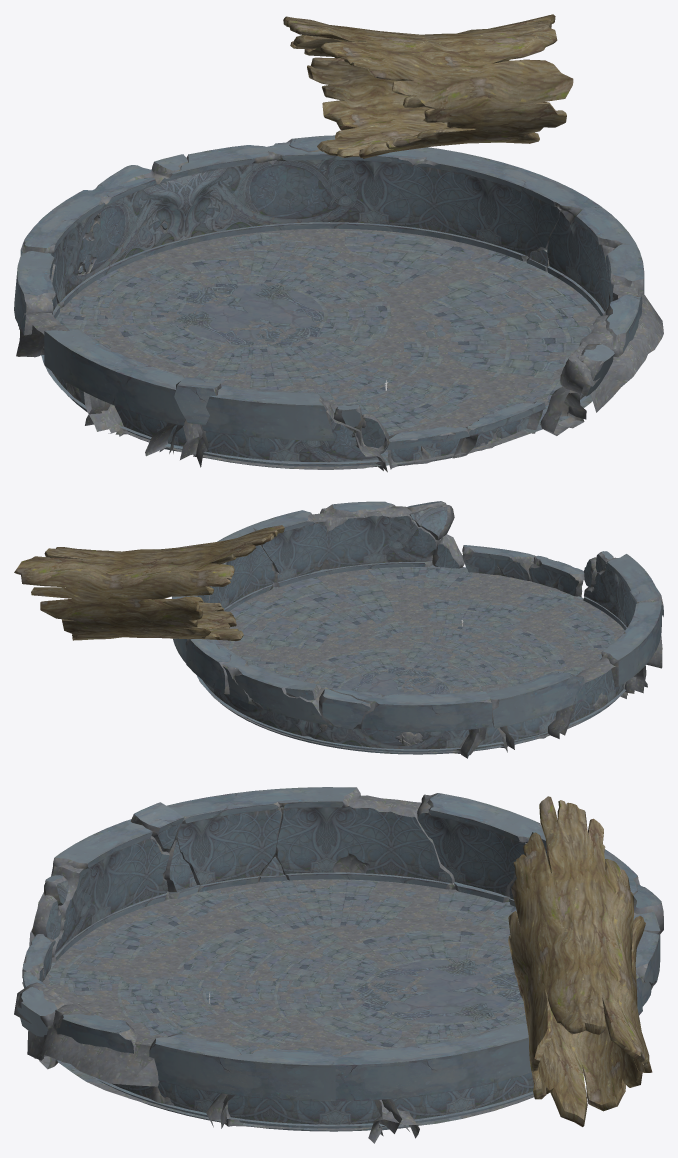
The model's file is Benlangling.fbx.
3 renders of one model, top to bottom at view 1: azimuth 30°, elevation 25°; view 2: azimuth 150°, elevation 25°; view 3: azimuth 270°, elevation 25°, orthographic. The views are drawn at different scales.
Visible parts, largest first — view 1: Body; view 2: Body; view 3: Body.
Part boxes in pixels (bbox=[...]): Body: bbox=[14, 14, 663, 472]; Body: bbox=[14, 501, 663, 758]; Body: bbox=[14, 787, 663, 1143].
Bounding box in the file's own units: 16893 × 6009 × 14163.
9 materials, 8 textured.
